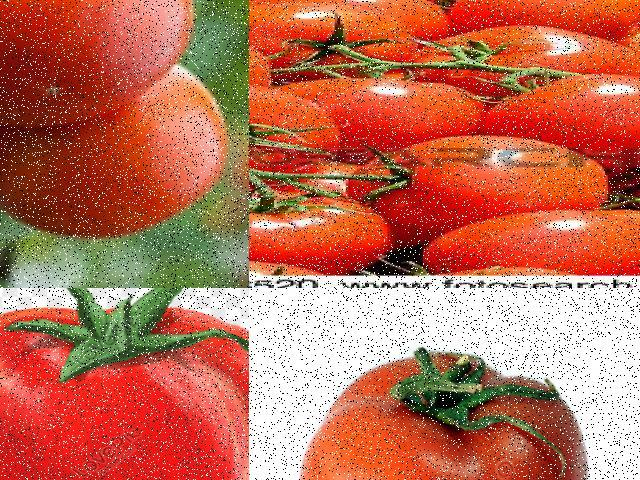tomato: (0, 304, 248, 479), (0, 72, 237, 253), (299, 346, 597, 479), (354, 132, 619, 236), (0, 0, 201, 135), (274, 70, 484, 148), (417, 27, 639, 94), (249, 185, 407, 271), (500, 66, 639, 161), (249, 3, 426, 76), (431, 215, 639, 276), (249, 81, 360, 183), (433, 0, 639, 45)
